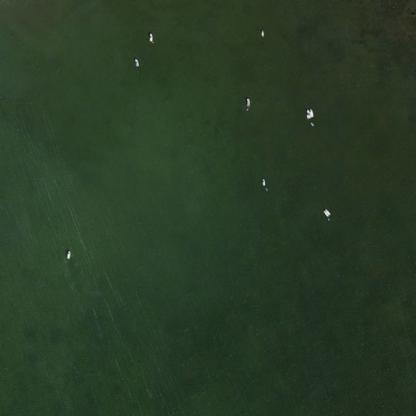ship: (299, 102, 319, 132), (314, 202, 338, 225), (236, 92, 257, 115), (128, 50, 144, 76), (254, 174, 273, 195), (60, 244, 76, 265), (254, 24, 271, 43), (142, 28, 158, 47)
